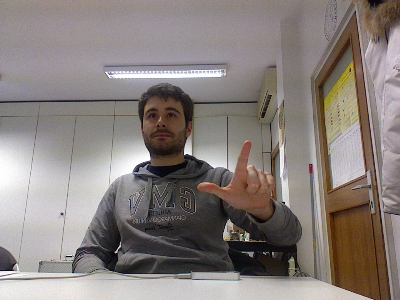枪: (195, 137, 276, 211)
